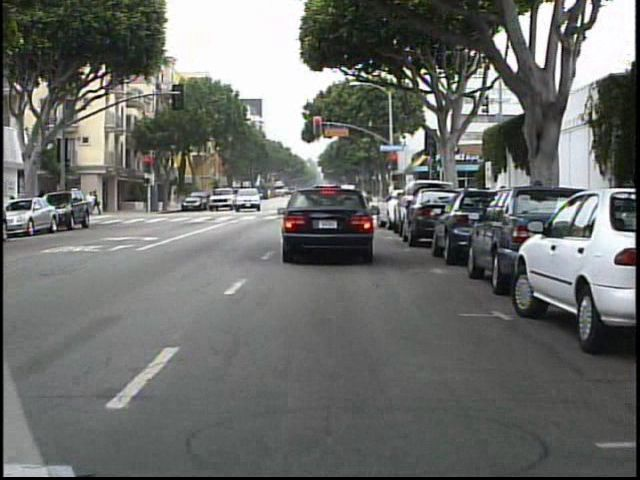person: (96, 187, 108, 219), (86, 189, 98, 217)
